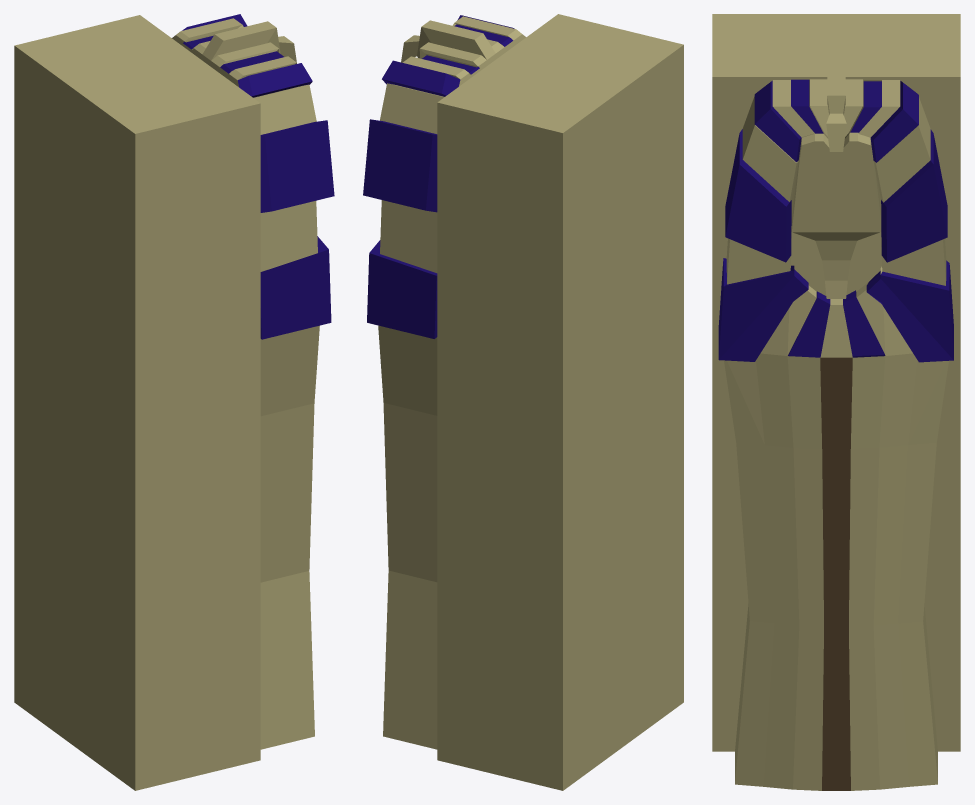
The model's file is coffin.fbx.
3 renders of one model, left to right at view 1: azimuth 30°, elevation 25°; view 2: azimuth 150°, elevation 25°; view 3: azimuth 270°, elevation 25°, orthographic. The views are drawn at different scales.
Visible parts, largest first — view 1: Cube; view 2: Cube; view 3: Cube.
Boxes of the visible parts, <box> form: Cube: <box>14,14,334,790</box>; Cube: <box>363,14,683,790</box>; Cube: <box>712,14,960,790</box>.
Bounding box in the file's own units: 210 × 616 × 200.
